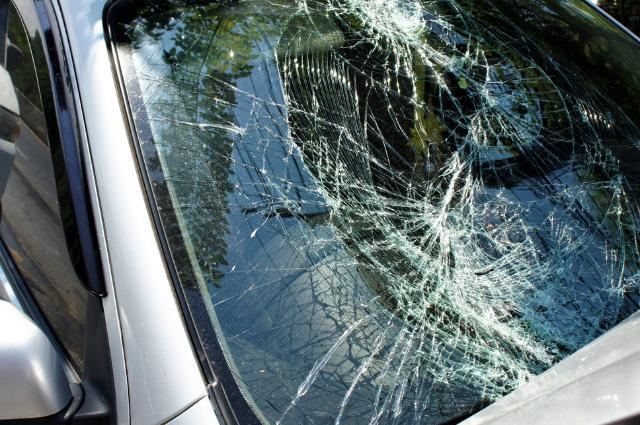Windshield: (111, 3, 640, 389)
